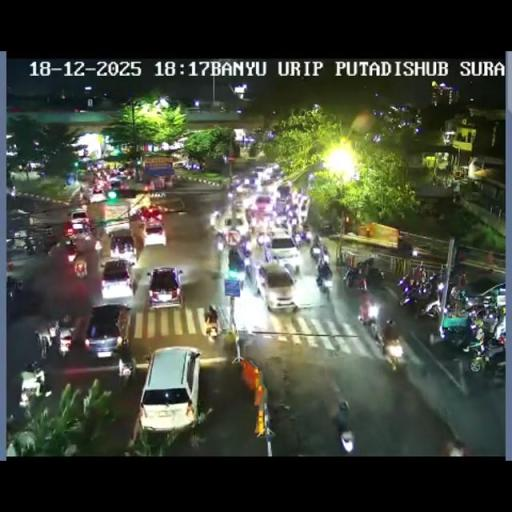Car: (214, 166, 324, 314), (138, 346, 201, 434), (82, 303, 132, 362), (146, 266, 183, 309), (99, 258, 135, 301), (266, 230, 300, 273), (226, 249, 248, 292), (109, 230, 137, 262), (142, 217, 166, 246), (224, 215, 246, 242), (68, 208, 90, 230), (254, 194, 273, 216), (276, 182, 292, 201), (90, 186, 106, 202), (108, 174, 126, 188), (254, 166, 268, 179), (321, 221, 334, 234)
Motorcycle: (398, 272, 442, 318), (466, 331, 505, 376), (439, 312, 476, 350), (332, 404, 354, 452), (358, 300, 382, 342), (33, 318, 58, 358), (381, 330, 406, 368), (342, 262, 366, 290), (57, 323, 75, 358), (34, 366, 52, 400), (116, 355, 134, 388), (448, 284, 470, 311), (363, 265, 386, 289), (462, 302, 488, 322), (491, 309, 506, 341), (310, 238, 328, 264), (267, 399, 291, 418), (443, 438, 468, 456), (315, 270, 331, 298), (41, 232, 61, 254), (6, 276, 22, 301), (204, 314, 218, 340), (397, 235, 414, 256), (65, 238, 79, 262), (238, 236, 252, 258), (292, 230, 308, 248), (412, 263, 426, 283), (453, 270, 468, 288), (74, 260, 87, 279), (26, 360, 42, 374), (24, 240, 37, 255), (284, 262, 296, 278), (216, 234, 225, 252), (82, 187, 92, 203)
